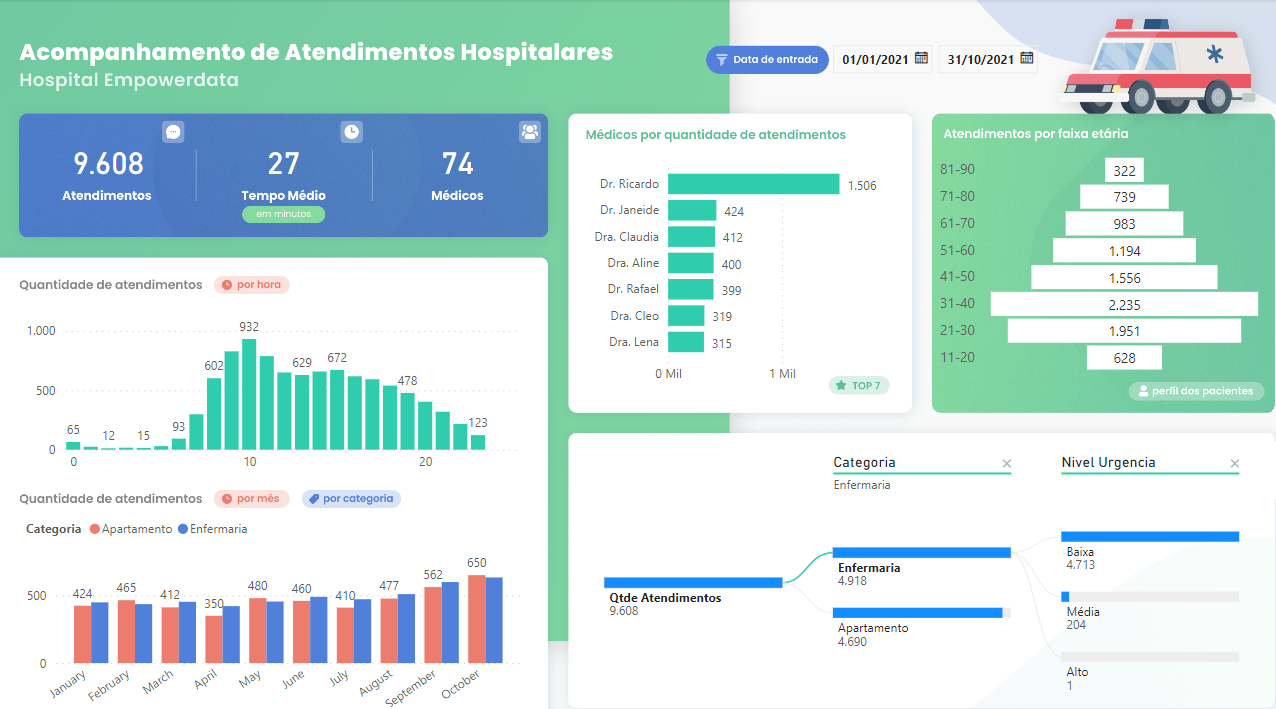

The page's visual inventory and layout, read from the dashboard file:
{"tool":"powerbi","page":{"name":"Página 1","canvas":[1280,720],"ordinal":0},"visuals":[{"type":"card","fields":{"Values":["Atendimentos.Qtde_Atendimento"]},"box":[22,121.1,172,77.1],"z":0},{"type":"card","fields":{"Values":["Atendimentos.Tempo_Medio"]},"box":[194.1,121.1,172,77.1],"z":1000},{"type":"card","fields":{"Values":["Atendimentos.Qtde_Medicos"]},"box":[366.1,121.1,172,77.1],"z":2000},{"type":"clusteredColumnChart","fields":{"Category":["Atendimentos.Hora"],"Y":["Atendimentos.Qtde_Atendimento"]},"box":[22,300,498.2,174.8],"z":3000},{"type":"clusteredColumnChart","fields":{"Category":["Atendimentos.data_entrada.Variation.Date Hierarchy.Month","Atendimentos.data_entrada.Variation.Date Hierarchy.Day"],"Y":["Atendimentos.Qtde_Atendimento"],"Series":["Atendimentos.Categoria"]},"box":[22,503.7,498.2,216.1],"z":4000},{"type":"clusteredBarChart","fields":{"Y":["Atendimentos.Qtde_Atendimento"],"Category":["lista_medicos.Médico"]},"box":[576.7,148.6,312.4,239.5],"z":5000},{"type":"slicer","fields":{"Values":["Atendimentos.data_entrada"]},"box":[810.7,35.8,225.7,48.2],"z":6000},{"type":"funnel","fields":{"Y":["Atendimentos.Qtde_Atendimento"],"Category":["Atendimentos.Faixa Etaria"]},"box":[923.5,148.6,328.9,224.3],"z":7000},{"type":"decompositionTreeVisual","fields":{"Analyze":["Atendimentos.Qtde_Atendimento"],"ExplainBy":["Atendimentos.Categoria","Atendimentos.Nivel Urgencia"]},"box":[567.1,432.2,712.9,287.7],"z":8000}]}

Visuals, with their boxes in screenshot pixels (x1, y1, x2, y2), scaled from the page's 1280x720 canvas onto the 1276x709 screenshot:
card - Atendimentos.Qtde_Atendimento: {"left": 22, "top": 119, "right": 193, "bottom": 195}
card - Atendimentos.Tempo_Medio: {"left": 193, "top": 119, "right": 365, "bottom": 195}
card - Atendimentos.Qtde_Medicos: {"left": 365, "top": 119, "right": 536, "bottom": 195}
clusteredColumnChart - Atendimentos.Hora x Atendimentos.Qtde_Atendimento: {"left": 22, "top": 295, "right": 519, "bottom": 468}
clusteredColumnChart - Atendimentos.data_entrada.Variation.Date Hierarchy.Month x Atendimentos.data_entrada.Variation.Date Hierarchy.Day: {"left": 22, "top": 496, "right": 519, "bottom": 708}
clusteredBarChart - Atendimentos.Qtde_Atendimento x lista_medicos.Médico: {"left": 575, "top": 146, "right": 886, "bottom": 382}
slicer - Atendimentos.data_entrada: {"left": 808, "top": 35, "right": 1033, "bottom": 83}
funnel - Atendimentos.Qtde_Atendimento x Atendimentos.Faixa Etaria: {"left": 921, "top": 146, "right": 1248, "bottom": 367}
decompositionTreeVisual - Atendimentos.Qtde_Atendimento x Atendimentos.Categoria: {"left": 565, "top": 426, "right": 1275, "bottom": 708}
